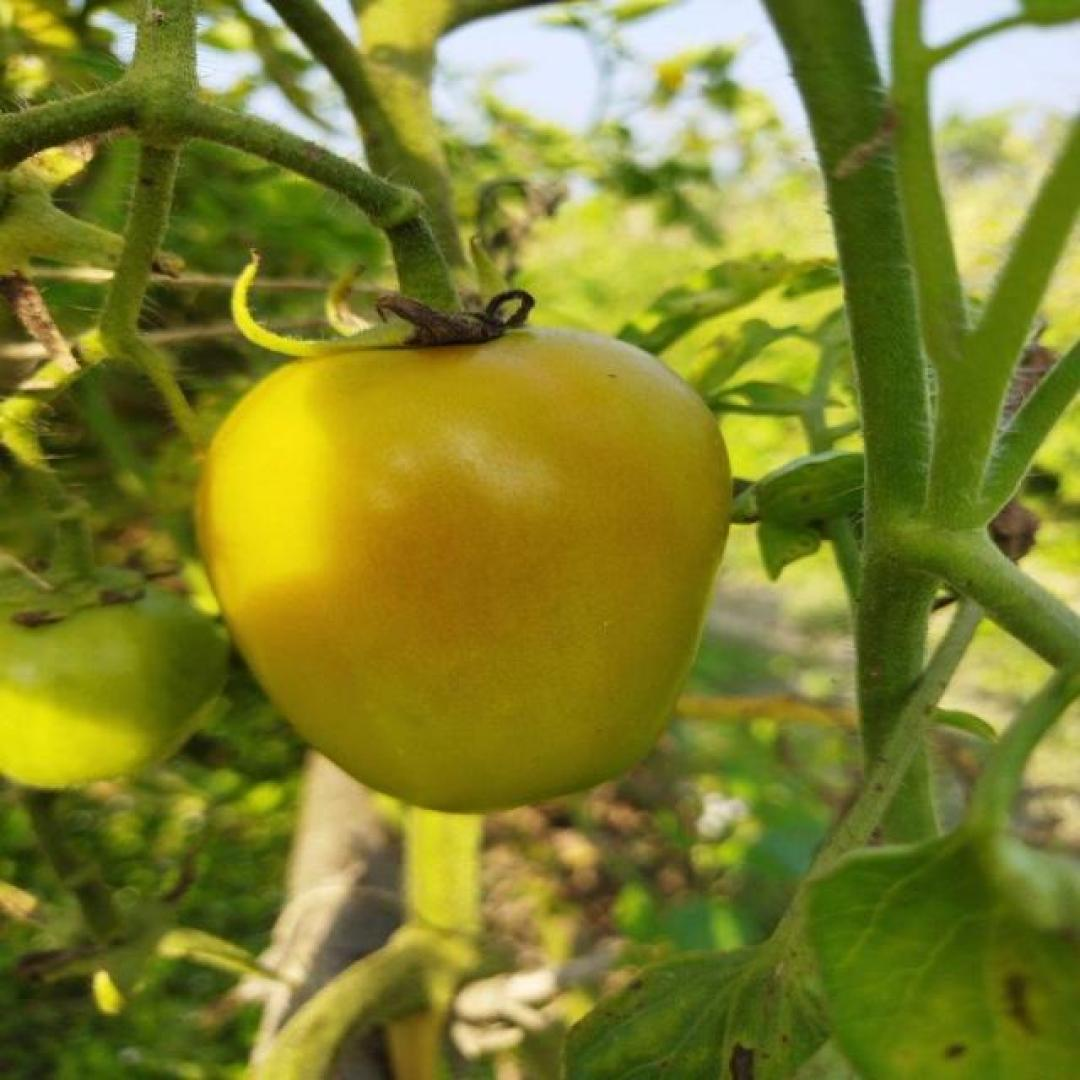setengah_matang: (189, 317, 732, 815)
